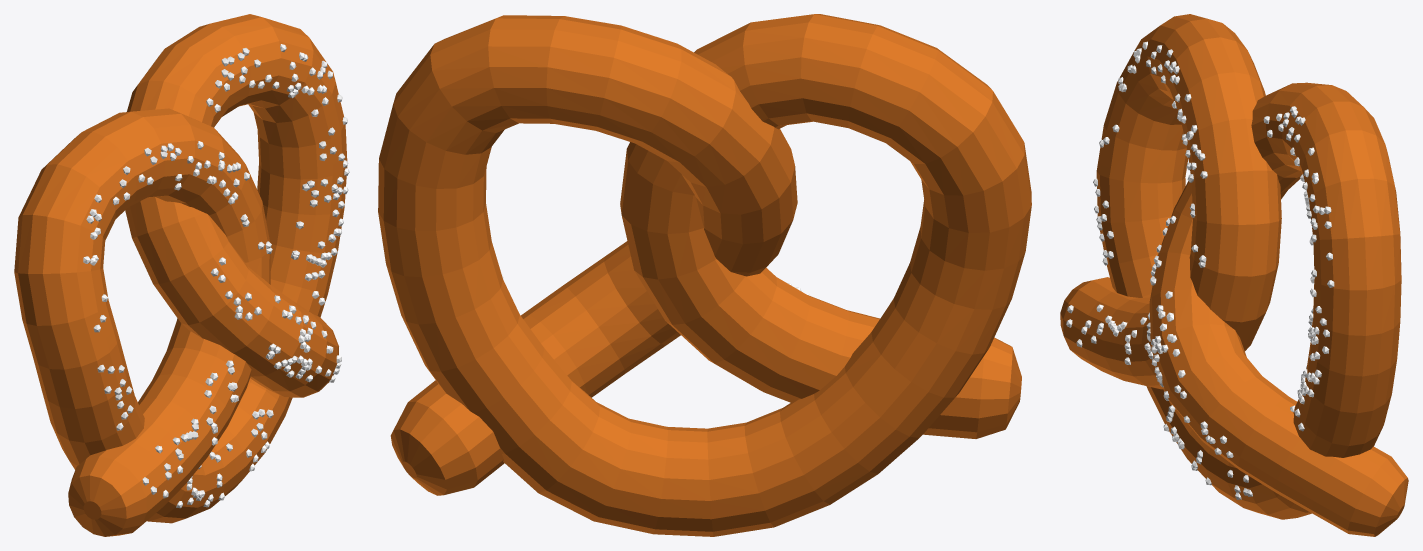
Rendered from Pretzel.obj.
3 renders of one model, left to right at view 1: azimuth 30°, elevation 25°; view 2: azimuth 150°, elevation 25°; view 3: azimuth 270°, elevation 25°, orthographic. The views are drawn at different scales.
Visible parts, largest first — view 1: Rectangle_sweep, salt_polys, Rounding_1; view 2: Rectangle_sweep, Rounding_2, Rounding_1; view 3: Rectangle_sweep, salt_polys, Rounding_2.
Boxes of the visible parts, <box> form: Rectangle_sweep: <box>14,14,338,524</box>; salt_polys: <box>77,41,347,511</box>; Rounding_1: <box>68,456,146,536</box>; Rectangle_sweep: <box>378,14,1031,536</box>; Rounding_2: <box>390,401,477,495</box>; Rounding_1: <box>976,337,1021,438</box>; Rectangle_sweep: <box>1064,14,1401,533</box>; salt_polys: <box>1063,39,1333,503</box>; Rounding_2: <box>1347,456,1408,536</box>.
Bounding box in the file's own units: 211 × 207 × 151.
